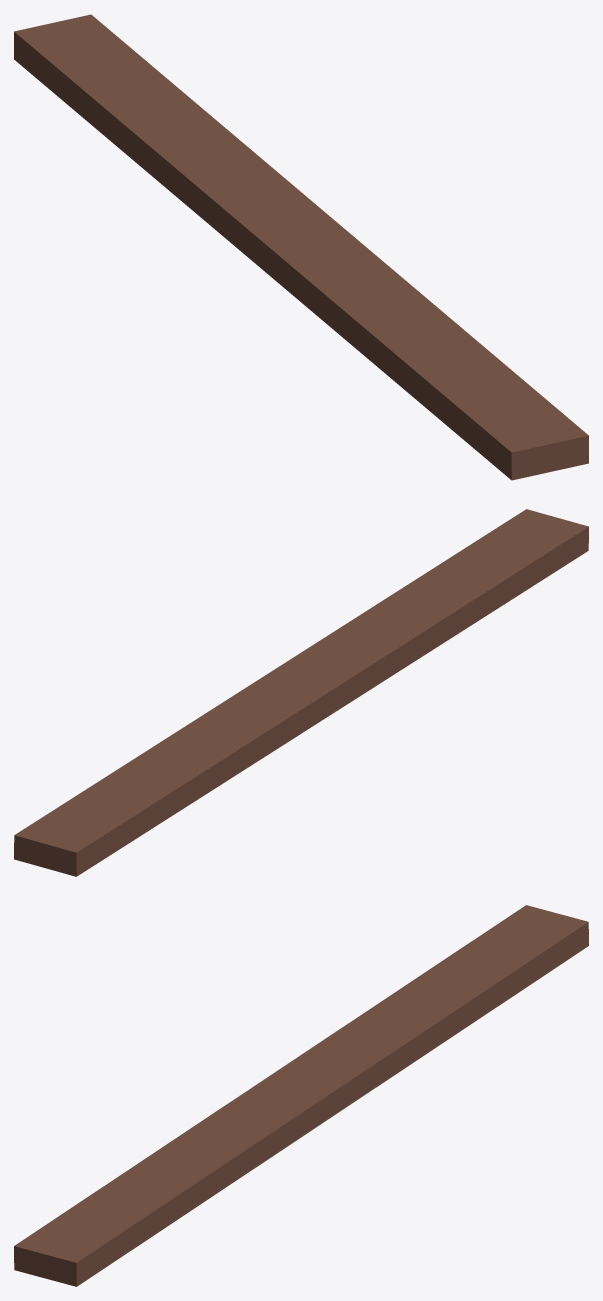
Rendered from group677251093_lev3.glb.
The picture shows the model from 3 angles, top to bottom: view 1: azimuth 30°, elevation 25°; view 2: azimuth 150°, elevation 25°; view 3: azimuth 330°, elevation 25°; orthographic projection. The views are drawn at different scales.
Parts seen in each view (by area): view 1: group677251093_lev3; view 2: group677251093_lev3; view 3: group677251093_lev3.
Part boxes in pixels (bbox=[...]): group677251093_lev3: bbox=[14, 14, 588, 480]; group677251093_lev3: bbox=[14, 509, 588, 876]; group677251093_lev3: bbox=[14, 905, 588, 1286].
Bounding box in the file's own units: 0.2296 × 0.0654 × 1.75.
